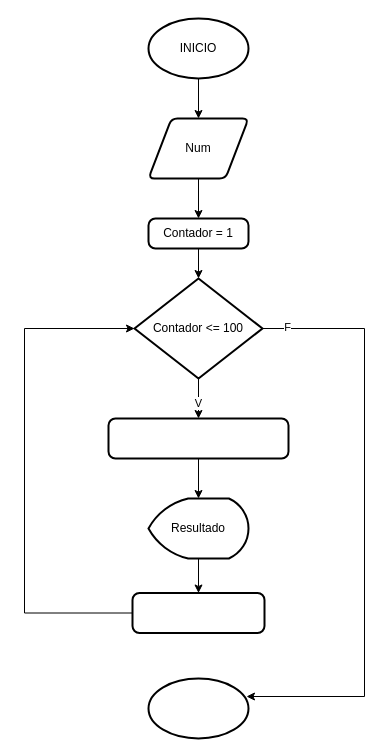
The diagram is 390 pixels wide and 756 high, and some of its shapes have lost their labels. Each missing label, with the centre of its shape:
"ADD 2 TO Contador" belongs at (198,613).
"FIM" belongs at (198,708).
"resultado = contador * num" belongs at (198,438).
